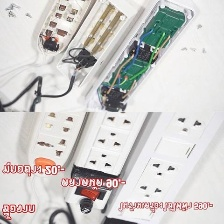three_eye_plug: (100, 111, 224, 224), (83, 0, 198, 112), (58, 110, 150, 216), (55, 0, 145, 91), (23, 110, 89, 183), (33, 0, 96, 65)
